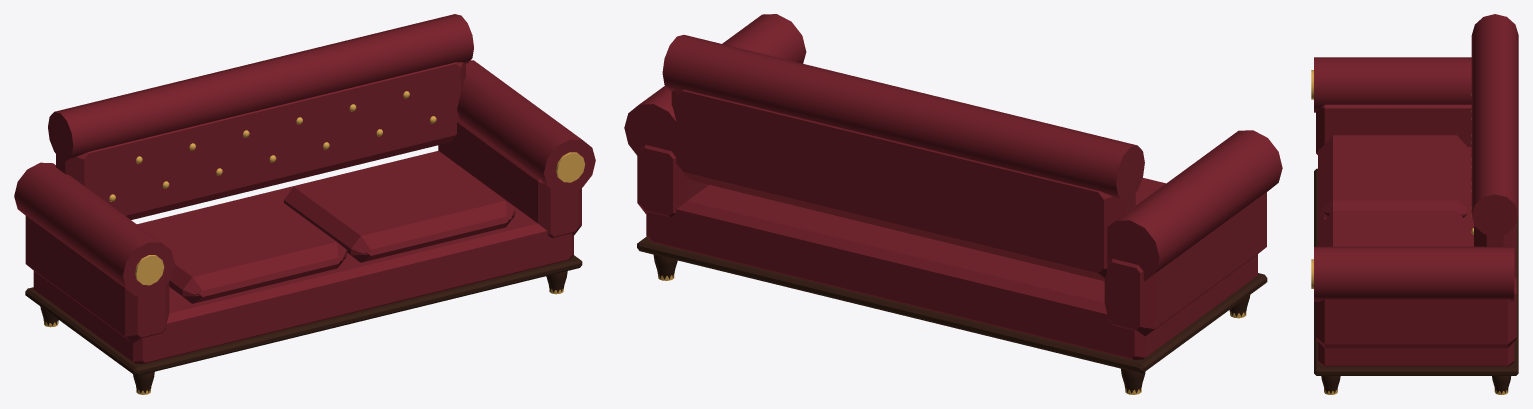
Rendered from couch.glb.
3 views of the same model, side by side, from view 1: azimuth 30°, elevation 25°; view 2: azimuth 150°, elevation 25°; view 3: azimuth 270°, elevation 25° (orthographic). The views are drawn at different scales.
Parts seen in each view (by area): view 1: Couch; view 2: Couch; view 3: Couch.
Part boxes in pixels (x1=…): Couch: x1=14, y1=14, x2=595, y2=394; Couch: x1=624, y1=14, x2=1282, y2=394; Couch: x1=1311, y1=14, x2=1518, y2=394.
Bounding box in the file's own units: 2.36 × 1.01 × 0.972.
